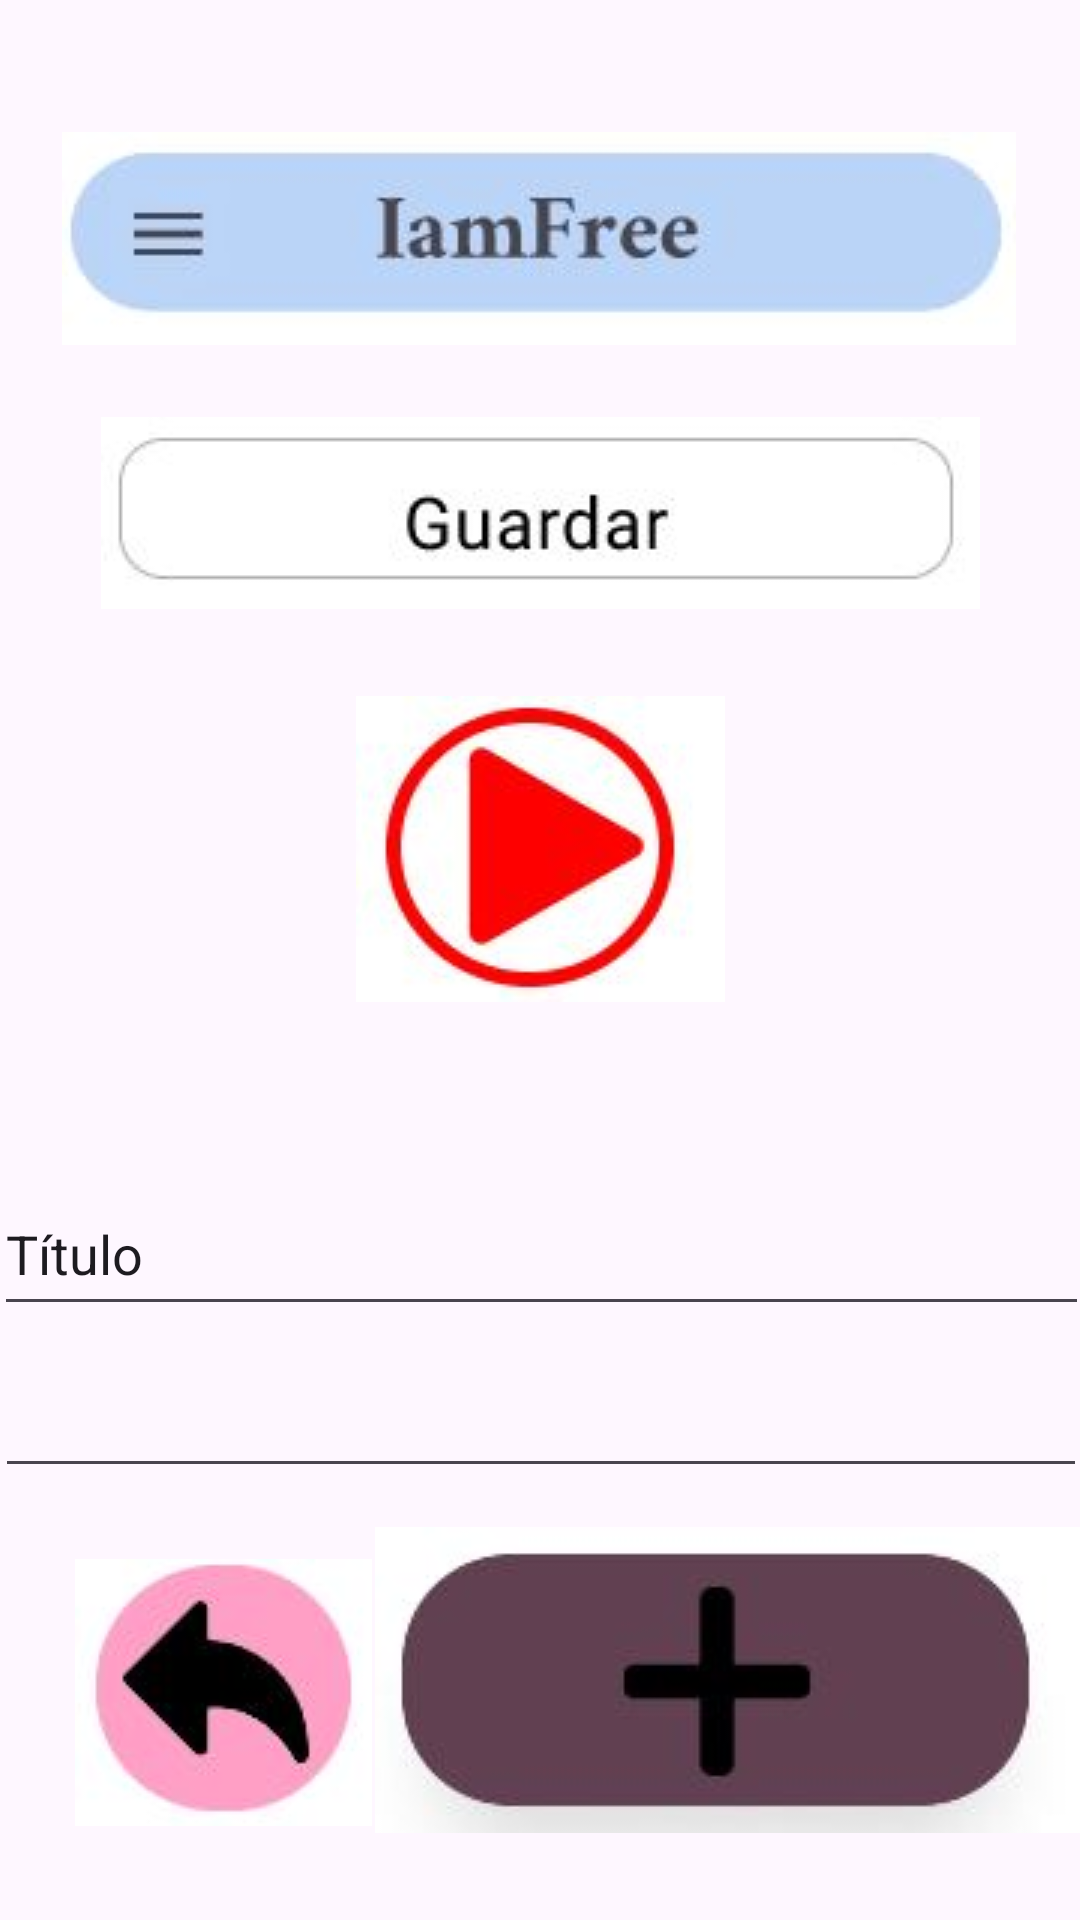

Named icons in this screenshot (1080 × 1920) and their bounding boxes, [left=x1, top=y1, right=x2, bottom=y2]:
atras: [left=95, top=1564, right=352, bottom=1812]
